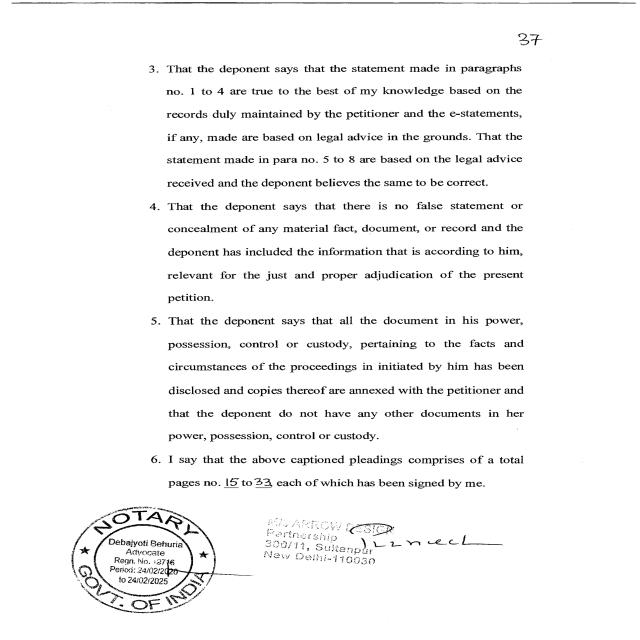page-number: (415, 0, 640, 58)
